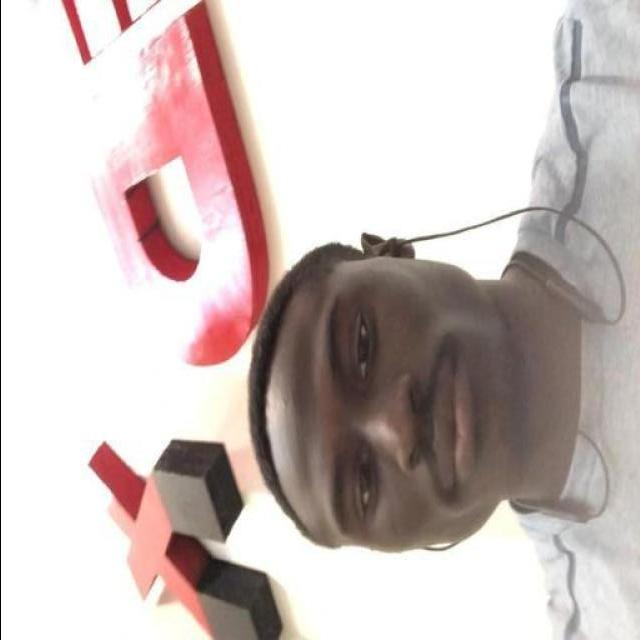bareface: (277, 226, 497, 544)
